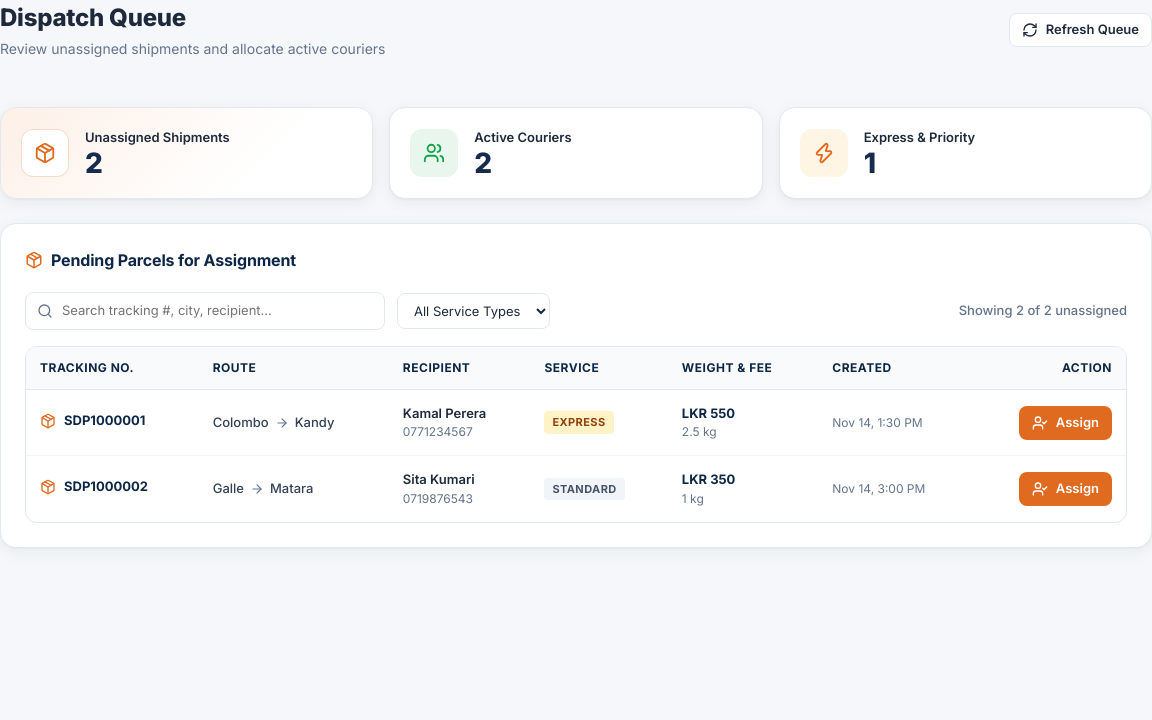
Dispatch Management Page & Assignment Modal - Component Tests › 6. Closes Assign Courier modal when Cancel is clicked
Expected: the text "SDP1000001" is shown, [40,411,145,430]
What coordinates should you click on to do the following:
click the button "Assign" in the row of "SDP1000001"
I would click on:
 (1065, 422)
Its box is [1019,406,1112,440].
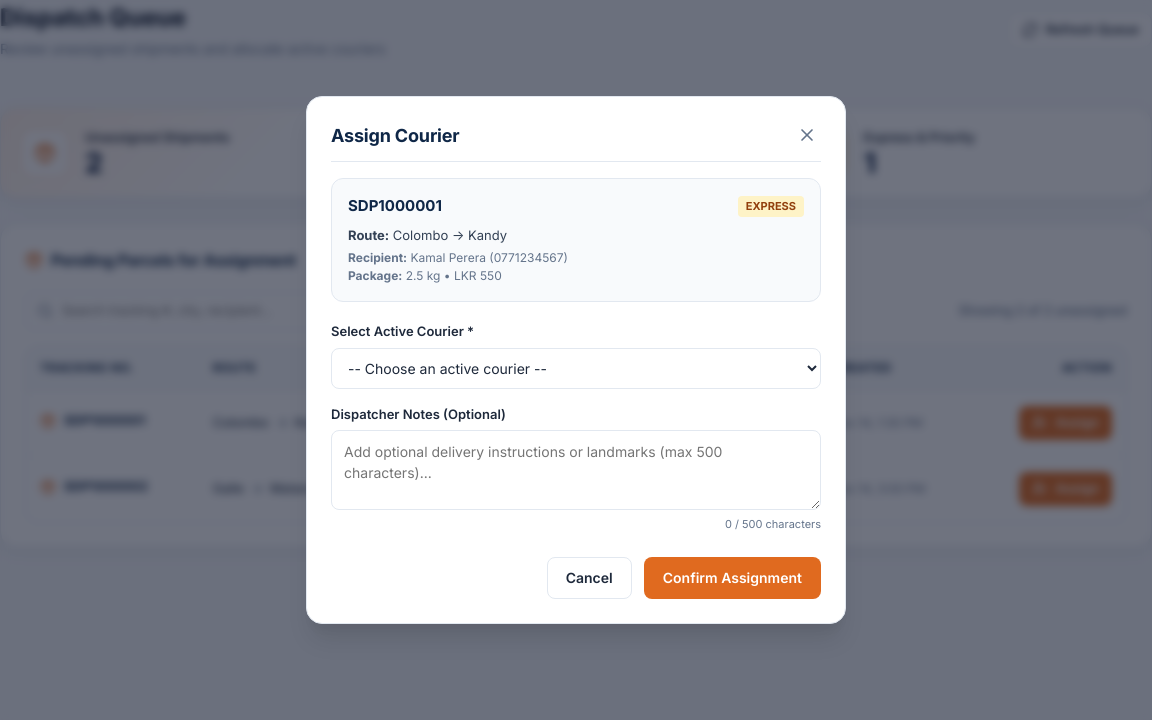
Expected: the dialog is shown
# Click Cancel
What coordinates should you click on to do the following:
click the button "Cancel"
I would click on:
 (589, 578)
Its box is [547,557,632,599].
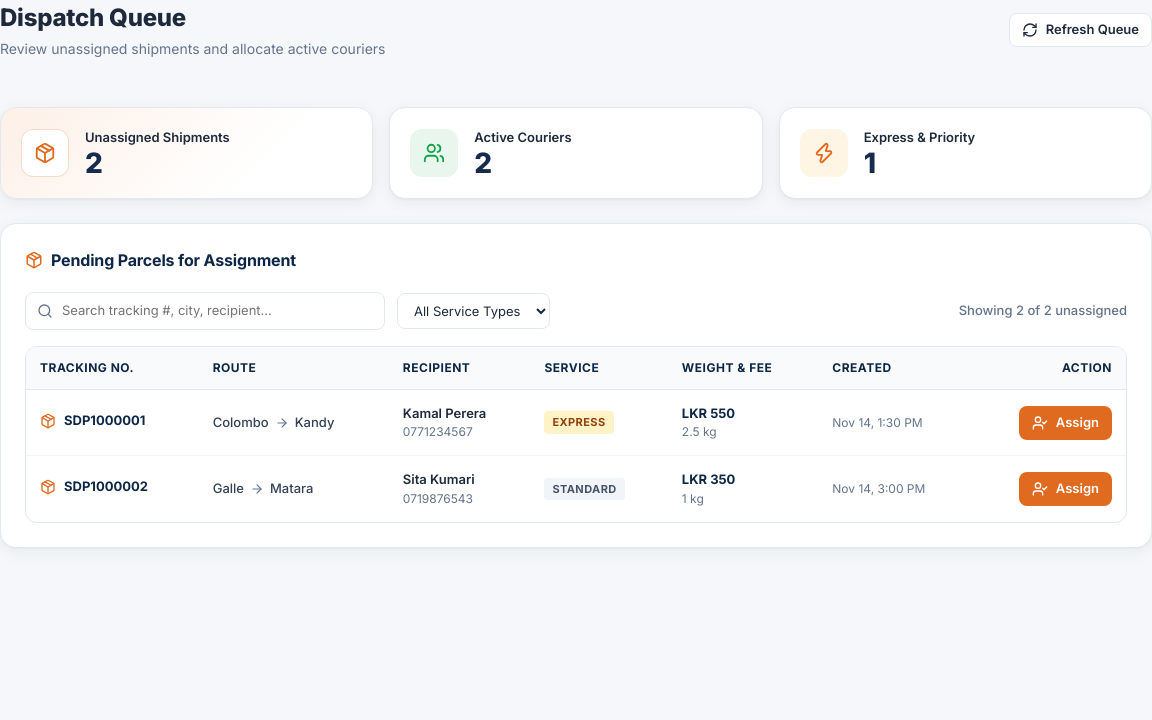
Expected: the dialog is gone
